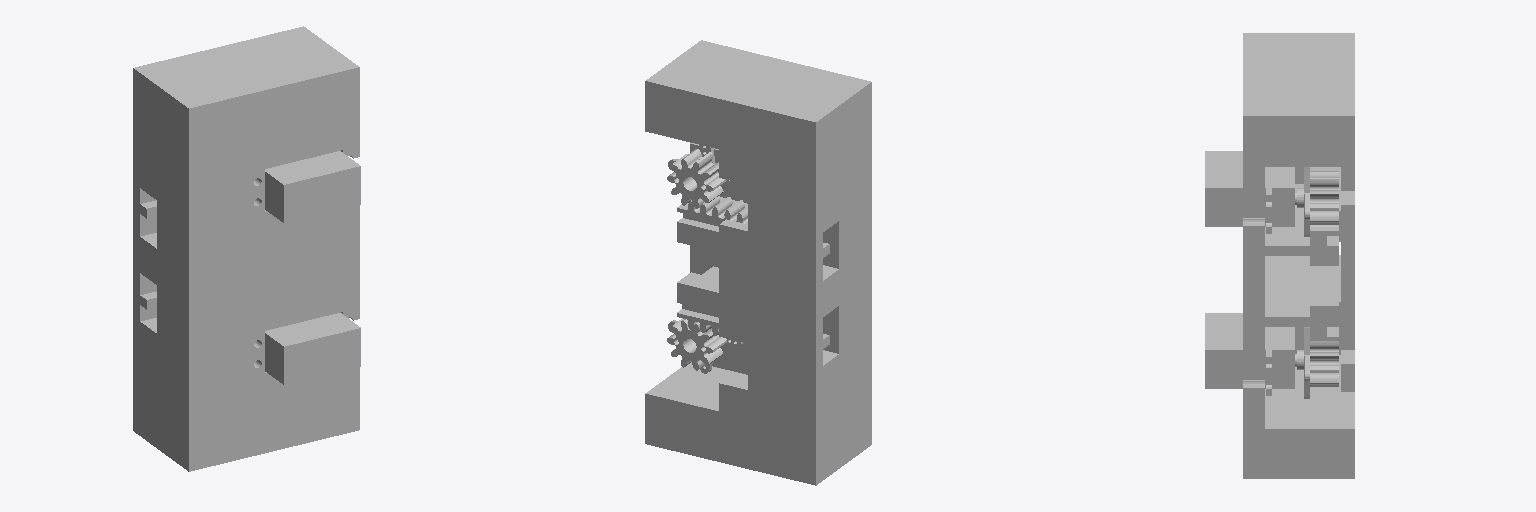
3 views of the same model, side by side, from view 1: azimuth 30°, elevation 25°; view 2: azimuth 150°, elevation 25°; view 3: azimuth 270°, elevation 25° (orthographic).
Parts seen in each view (by area): view 1: Main Shell, Servo, Servo:1; view 2: Main Shell, Rack 1, Body1:1, Rack 2, Body1; view 3: Main Shell, Servo, Servo:1, Rack 2, Body1:1, Body1, Rack 1, Unlocking Servo Arm, Unlocking Servo Arm:1.
Boxes of the visible parts, x1=… form: Main Shell: x1=133, y1=26, x2=359, y2=471; Servo: x1=265, y1=313, x2=360, y2=384; Servo:1: x1=265, y1=151, x2=360, y2=222; Main Shell: x1=645, y1=40, x2=871, y2=485; Rack 1: x1=677, y1=196, x2=747, y2=251; Body1:1: x1=667, y1=149, x2=726, y2=208; Rack 2: x1=677, y1=272, x2=738, y2=341; Body1: x1=667, y1=318, x2=726, y2=370; Main Shell: x1=1243, y1=33, x2=1354, y2=478; Servo: x1=1205, y1=313, x2=1296, y2=395; Servo:1: x1=1205, y1=151, x2=1296, y2=233; Rack 2: x1=1310, y1=266, x2=1338, y2=340; Body1:1: x1=1310, y1=171, x2=1338, y2=224; Body1: x1=1310, y1=341, x2=1338, y2=386; Rack 1: x1=1310, y1=167, x2=1338, y2=265; Unlocking Servo Arm: x1=1297, y1=327, x2=1309, y2=398; Unlocking Servo Arm:1: x1=1297, y1=167, x2=1309, y2=236.
Size of the model in its own units: 8.84 by 17.95 by 6.69.